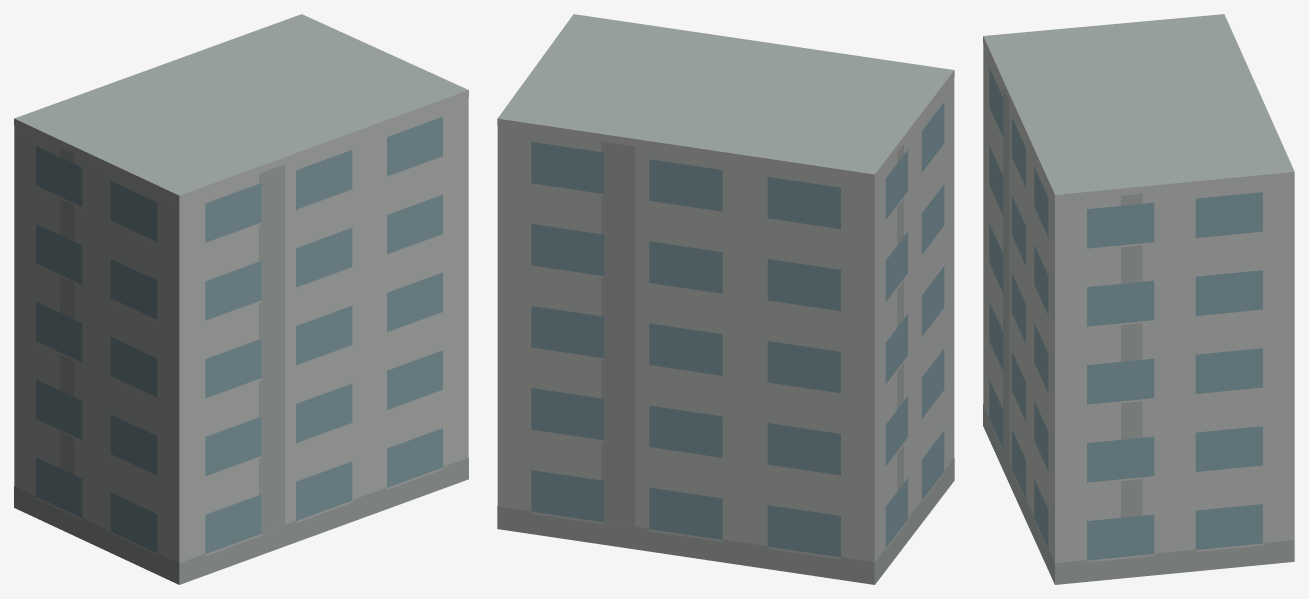
File: survey-upis-32546802.glb
3 views of the same model, side by side, from view 1: azimuth 30°, elevation 25°; view 2: azimuth 150°, elevation 25°; view 3: azimuth 270°, elevation 25° (orthographic). The views are drawn at different scales.
Parts seen in each view (by area): view 1: survey-upis-32546802.tmp; view 2: survey-upis-32546802.tmp; view 3: survey-upis-32546802.tmp.
Part boxes in pixels (bbox=[...]): survey-upis-32546802.tmp: bbox=[14, 14, 468, 584]; survey-upis-32546802.tmp: bbox=[497, 14, 954, 584]; survey-upis-32546802.tmp: bbox=[983, 14, 1294, 584].
Bounding box in the file's own units: 13.2 × 13.25 × 9.61.
